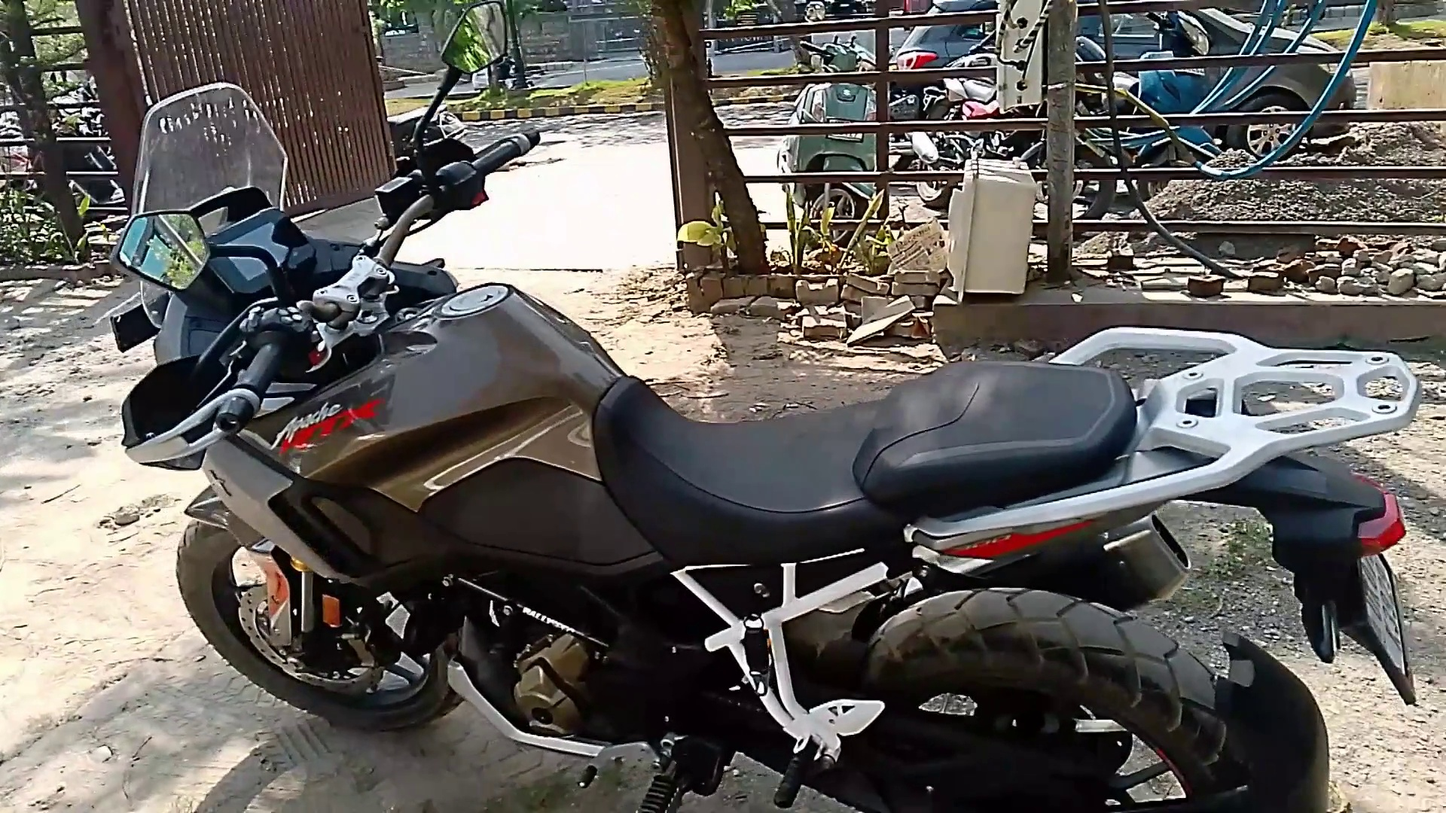engine: (467, 589, 640, 760)
